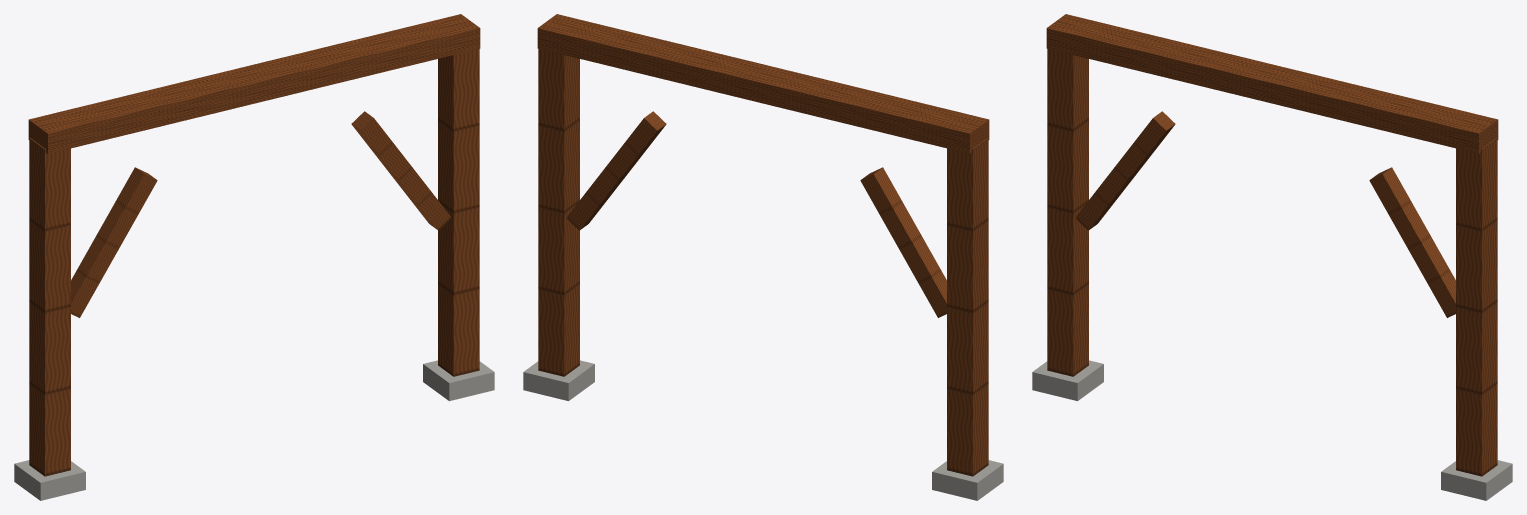
Rendered from open-timber-frame-bay-4-m.glb.
3 renders of one model, left to right at view 1: azimuth 30°, elevation 25°; view 2: azimuth 150°, elevation 25°; view 3: azimuth 330°, elevation 25°, orthographic.
Visible parts, largest first — view 1: blacksmith-forge-and-armoury-timber-frame-bay; view 2: blacksmith-forge-and-armoury-timber-frame-bay; view 3: blacksmith-forge-and-armoury-timber-frame-bay.
Part boxes in pixels (bbox=[...]): blacksmith-forge-and-armoury-timber-frame-bay: bbox=[14, 14, 494, 500]; blacksmith-forge-and-armoury-timber-frame-bay: bbox=[523, 14, 1003, 500]; blacksmith-forge-and-armoury-timber-frame-bay: bbox=[1032, 14, 1512, 500].
Size of the model in its own units: 4.2 by 3.2 by 0.4199.
Materials: 2 (2 with a texture image).
